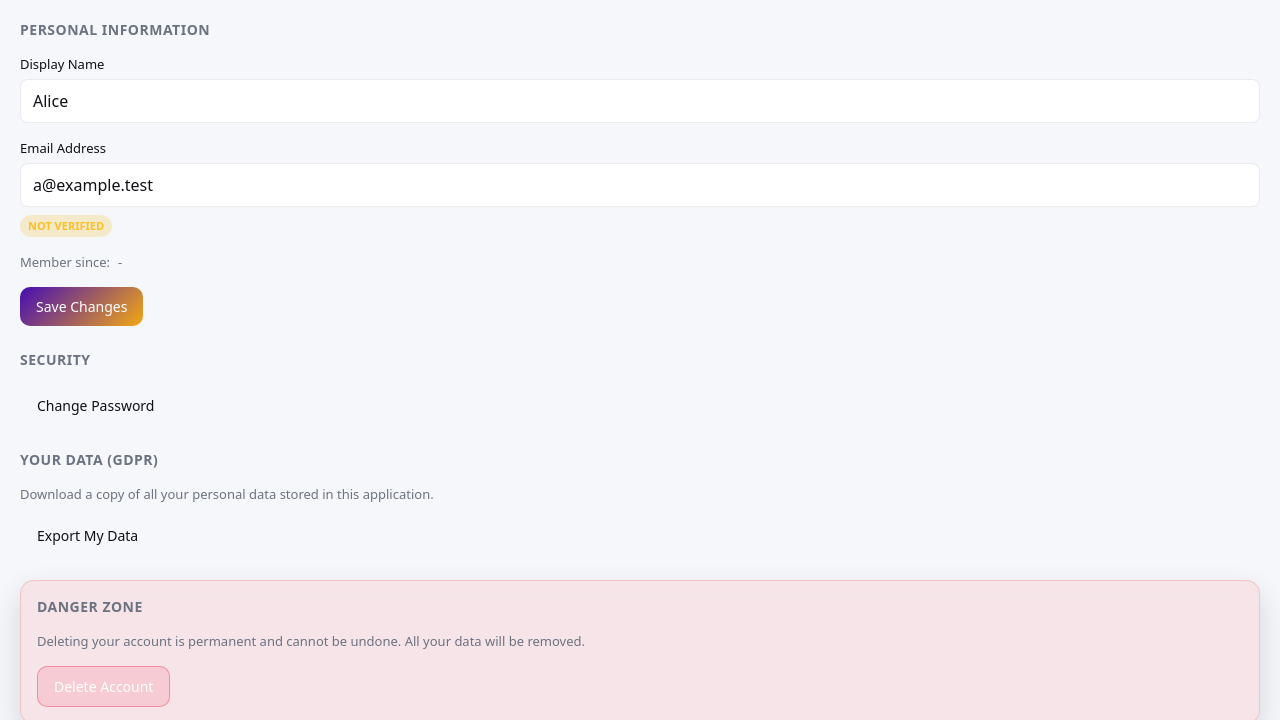
ProfileSettings name field › shows the hint for a rejected name instead of the raw code
expect the field with placeholder "your@email.com" below "Email Address" is not empty: met, box [20,163,1260,207]
Click the button "Save Changes" at (82, 306), box [20,287,143,326]
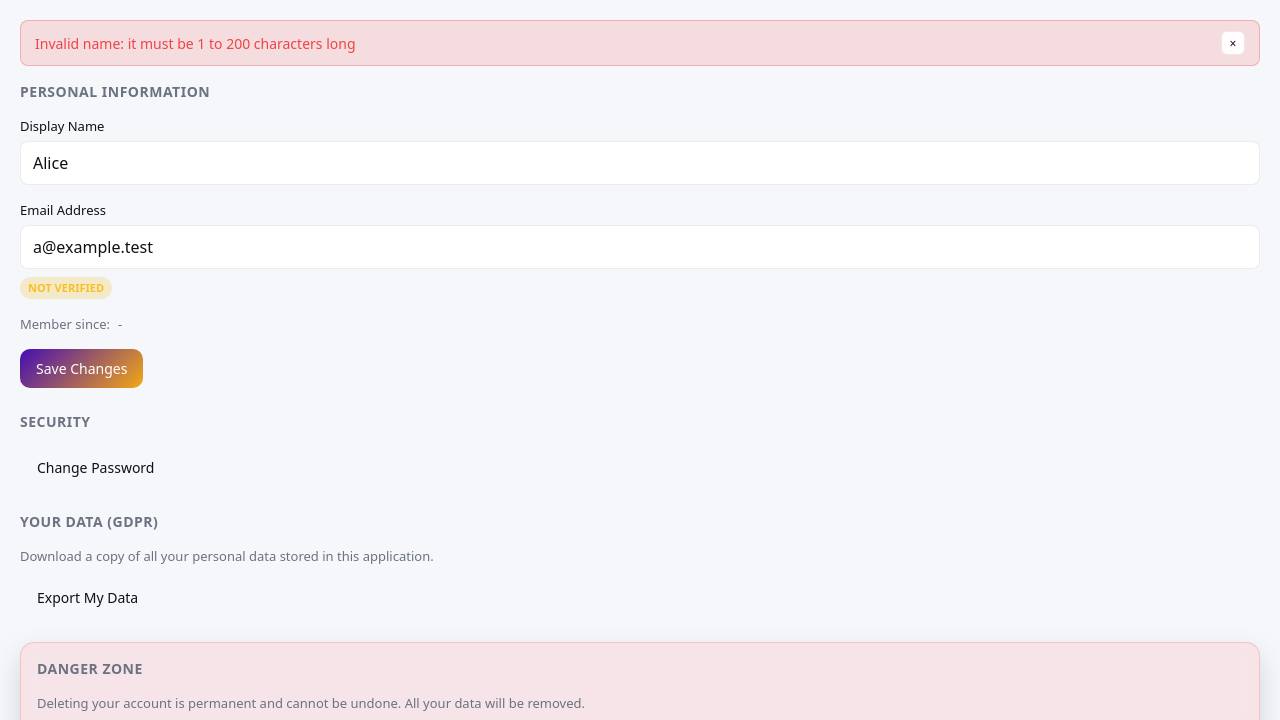
expect the text "Invalid name: it must be 1 to 200 characters long" is shown: met, box [35,34,356,52]
